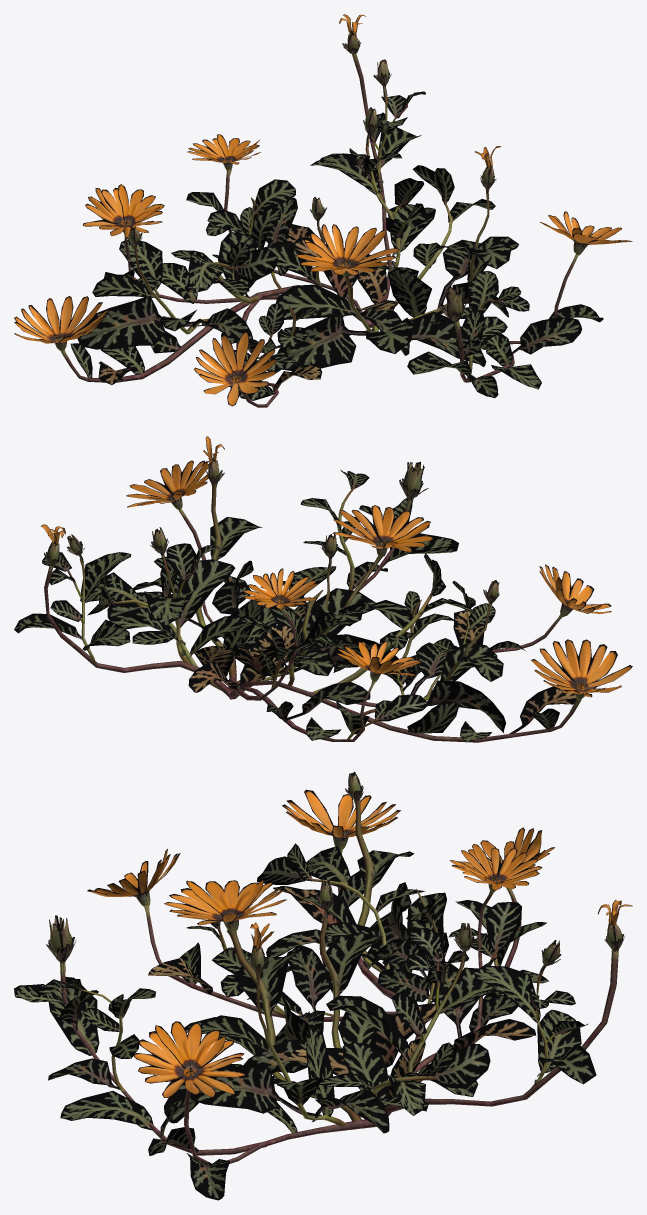
File: flower_ursinia.glb
3 renders of one model, top to bottom at view 1: azimuth 30°, elevation 25°; view 2: azimuth 150°, elevation 25°; view 3: azimuth 270°, elevation 25°, orthographic. The views are drawn at different scales.
Parts seen in each view (by area): view 1: flower_ursinia_a_LOD0; view 2: flower_ursinia_a_LOD0; view 3: flower_ursinia_a_LOD0.
Part boxes in pixels (left/top/right/bottom): flower_ursinia_a_LOD0: left=14, top=14, right=632, bottom=407; flower_ursinia_a_LOD0: left=14, top=436, right=632, bottom=742; flower_ursinia_a_LOD0: left=14, top=771, right=632, bottom=1200.
Size of the model in its own units: 0.4254 by 0.1642 by 0.3433.
1 material, 1 textured.
